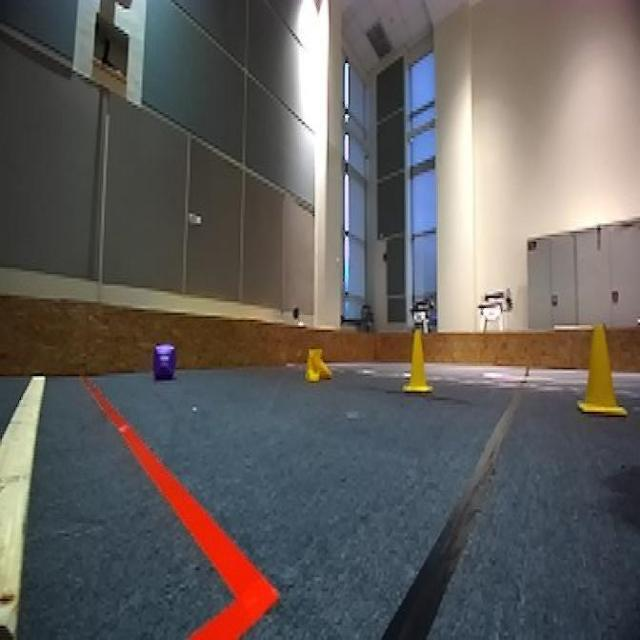frc_cone: (577, 325, 621, 415), (402, 325, 435, 395), (304, 347, 335, 383)
frc_cube: (152, 340, 177, 380)
